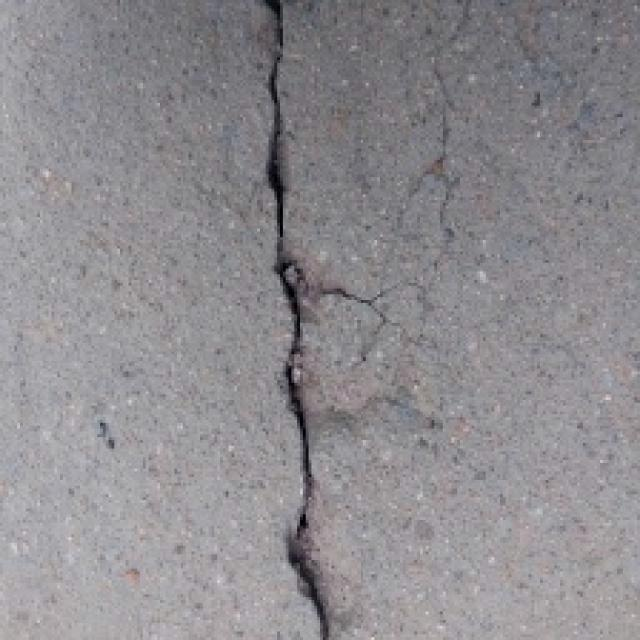crack: (232, 0, 358, 640)
